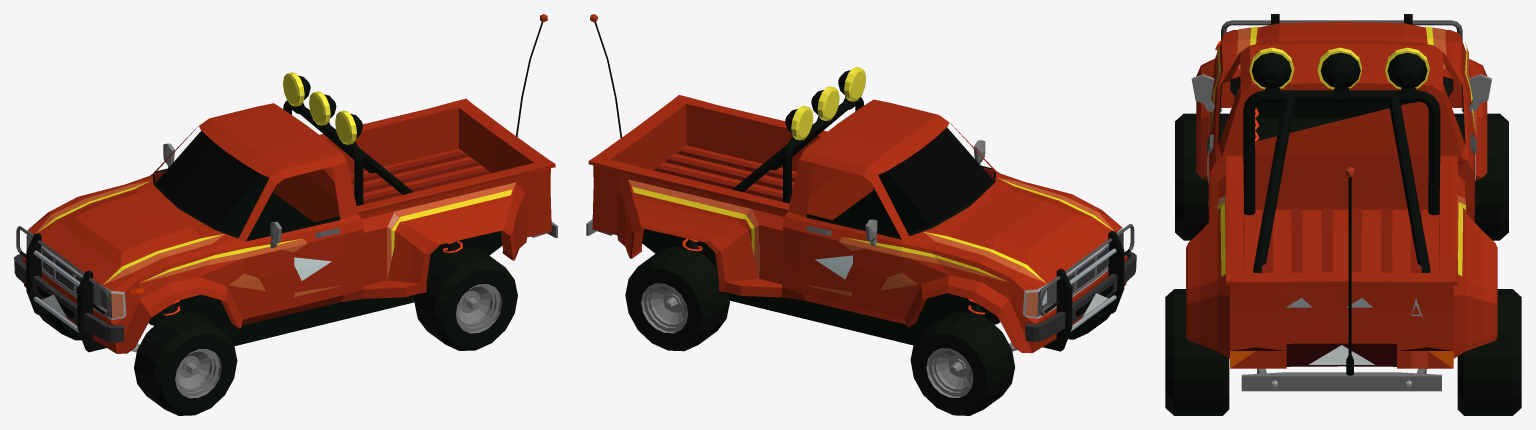
Rendered from toyoyo-highlight.lod.glb.
3 renders of one model, left to right at view 1: azimuth 30°, elevation 25°; view 2: azimuth 150°, elevation 25°; view 3: azimuth 270°, elevation 25°, orthographic. The views are drawn at different scales.
Visible parts, largest first — view 1: rollbar; view 2: rollbar; view 3: rollbar.
Part boxes in pixels (bbox=[...]): rollbar: bbox=[14, 14, 557, 415]; rollbar: bbox=[586, 14, 1136, 415]; rollbar: bbox=[1165, 14, 1521, 415].
Size of the model in its own units: 4.51 by 2.2 by 2.16.
3 materials, 2 textured.
